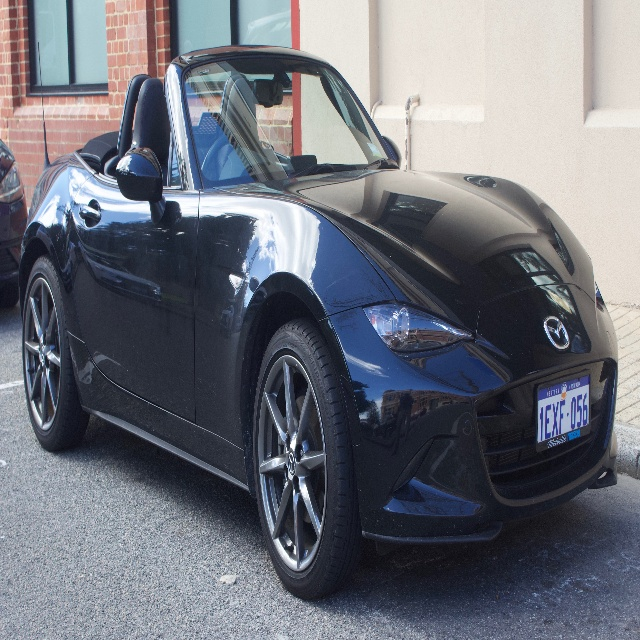Car: (17, 44, 619, 601)
